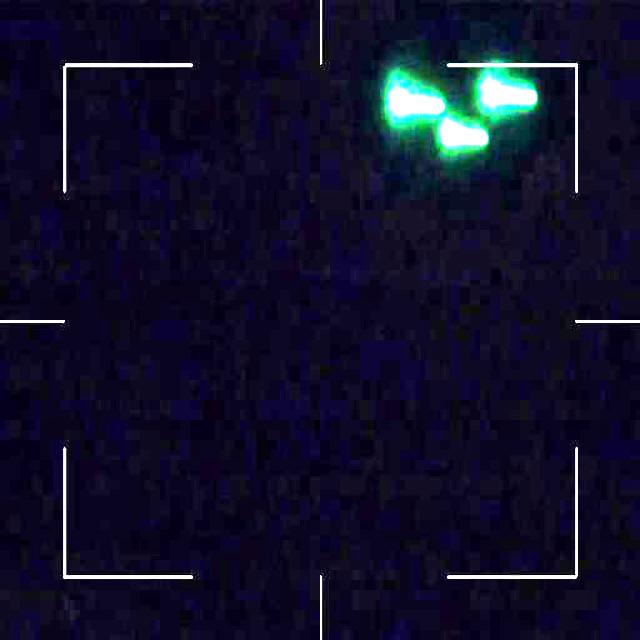bird: (384, 64, 540, 155)
